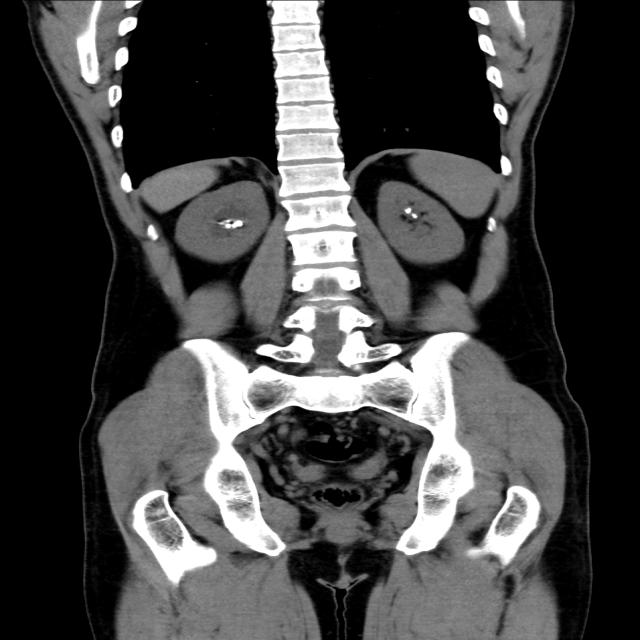kidneystone: (217, 218, 245, 229), (401, 208, 420, 220)
